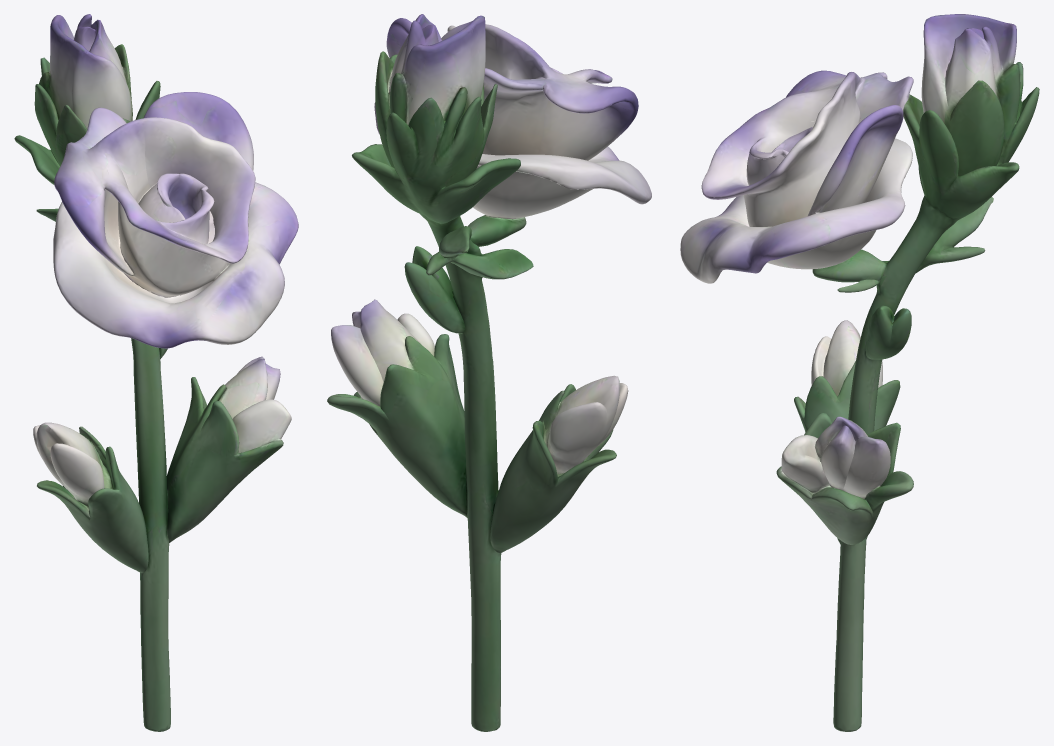
The model's file is lisianthus.glb.
3 views of the same model, side by side, from view 1: azimuth 30°, elevation 25°; view 2: azimuth 150°, elevation 25°; view 3: azimuth 270°, elevation 25° (orthographic). The views are drawn at different scales.
Visible parts, largest first — view 1: model; view 2: model; view 3: model.
Boxes of the visible parts, x1,y1,x2,y2 form: model: [14, 14, 298, 731]; model: [327, 14, 651, 731]; model: [680, 14, 1039, 731].
Bounding box in the file's own units: 0.7136 × 1.9 × 0.8843.
Materials: 1 (1 with a texture image).
